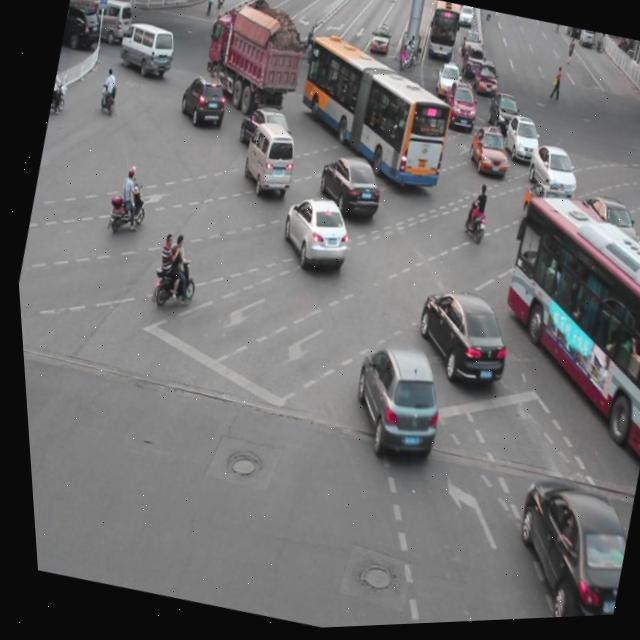bus: (192, 7, 309, 125)
car: (485, 472, 633, 624), (333, 337, 449, 470), (400, 283, 514, 395), (269, 189, 356, 280), (307, 150, 386, 229), (565, 194, 640, 269), (512, 183, 577, 249), (517, 143, 580, 209), (232, 100, 295, 162), (172, 72, 231, 134), (602, 292, 640, 378), (460, 126, 512, 184), (495, 116, 543, 170), (629, 257, 640, 326)
truck: (233, 119, 300, 203)
van: (462, 188, 640, 476), (282, 32, 464, 199)
